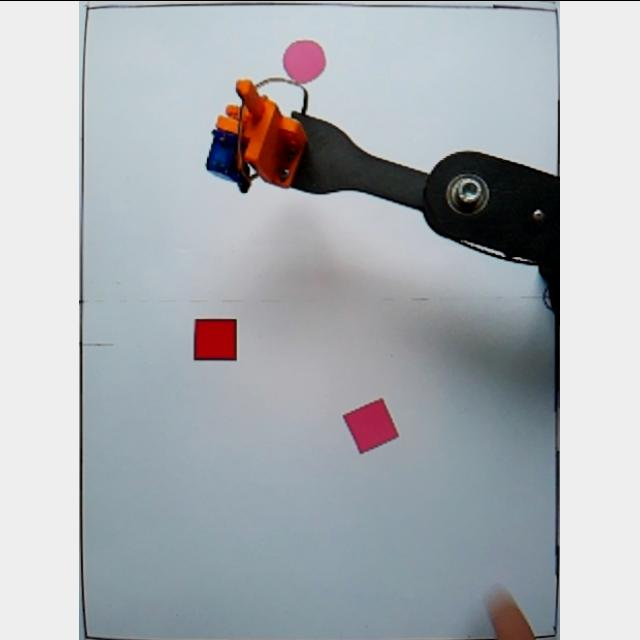pinkCircle: (284, 38, 332, 84)
pinkSquare: (343, 396, 402, 456)
redSquare: (192, 315, 245, 363)
